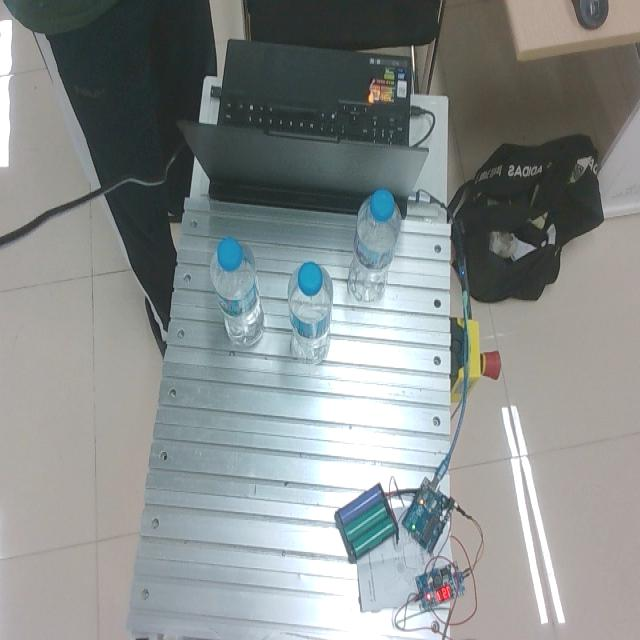lavie: (348, 188, 402, 303), (211, 236, 265, 348), (287, 260, 334, 363)
